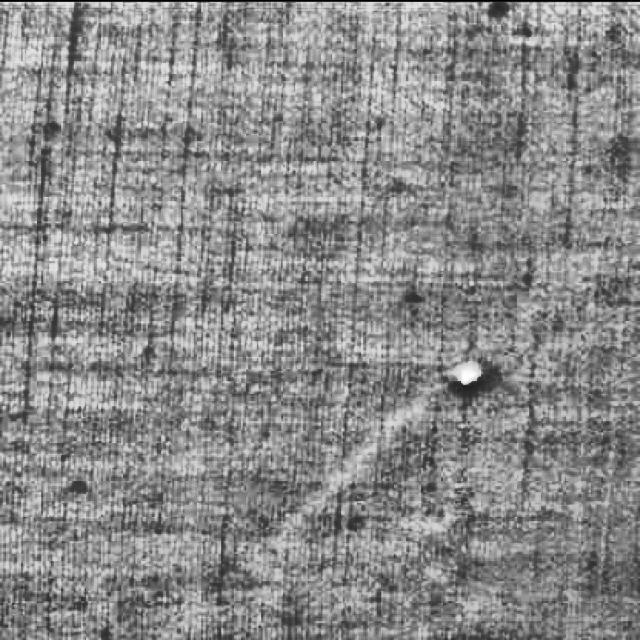hole: (447, 357, 492, 392)
